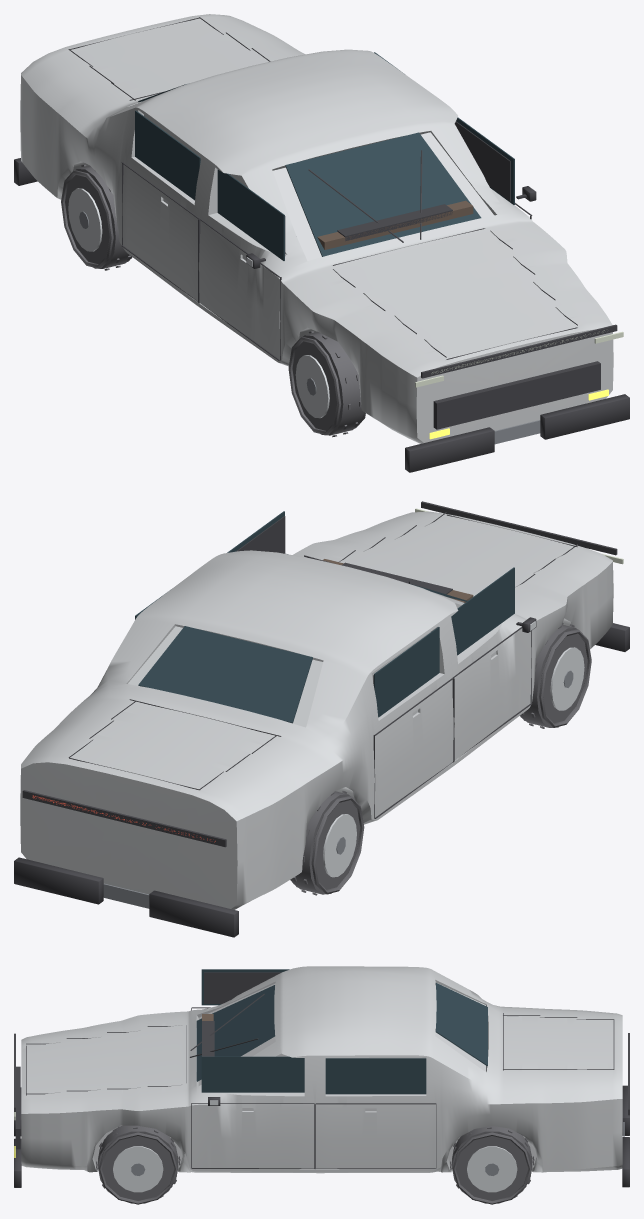
Rendered from Sedan_Mid_A_Silver.fbx.
3 renders of one model, top to bottom at view 1: azimuth 30°, elevation 25°; view 2: azimuth 150°, elevation 25°; view 3: azimuth 270°, elevation 25°, orthographic. The views are drawn at different scales.
Parts seen in each view (by area): view 1: LOD0; view 2: LOD0; view 3: LOD0.
Boxes of the visible parts, x1=… form: LOD0: x1=14, y1=14, x2=629, y2=472; LOD0: x1=14, y1=501, x2=629, y2=937; LOD0: x1=14, y1=966, x2=629, y2=1204.
Size of what is drawn, in the model's own units: 204 by 144 by 491.
